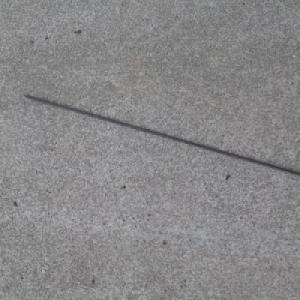LuggagePart: (22, 94, 300, 175)
